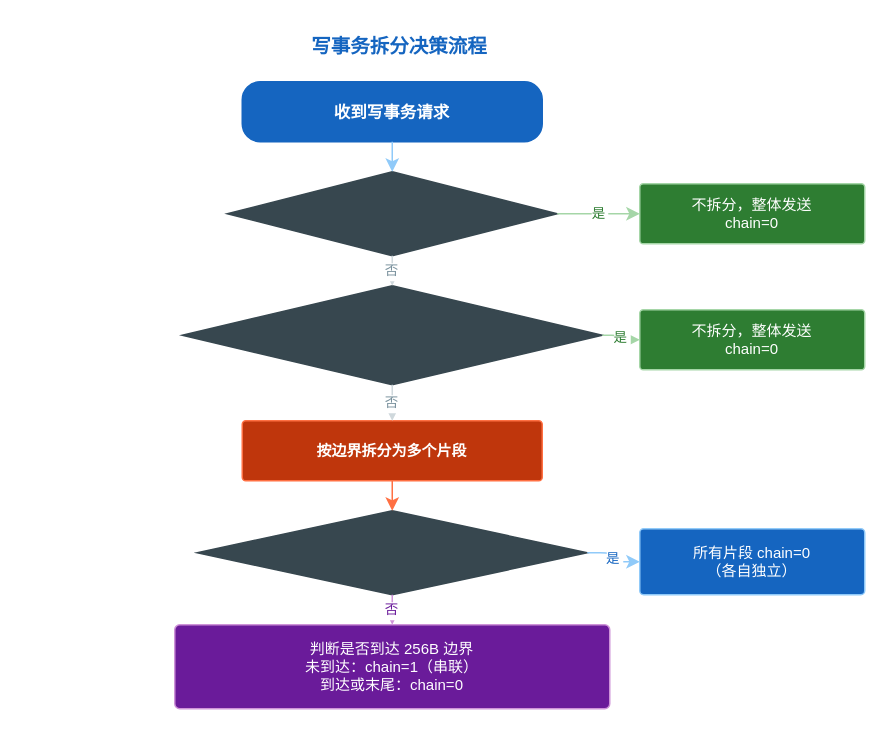
Some shapes in this 890 by 734 pixel diagram are drawn without their labels. The shapes that lost their labels are listed below. From the top down, each one's centre as x and y in pixels, then its label:
the point at 391,213: 是否为 Atomic？
the point at 391,334: 是否在写边界内？ （无 LW：64B；有 LW：256B）
the point at 391,552: Large Write 开启？
